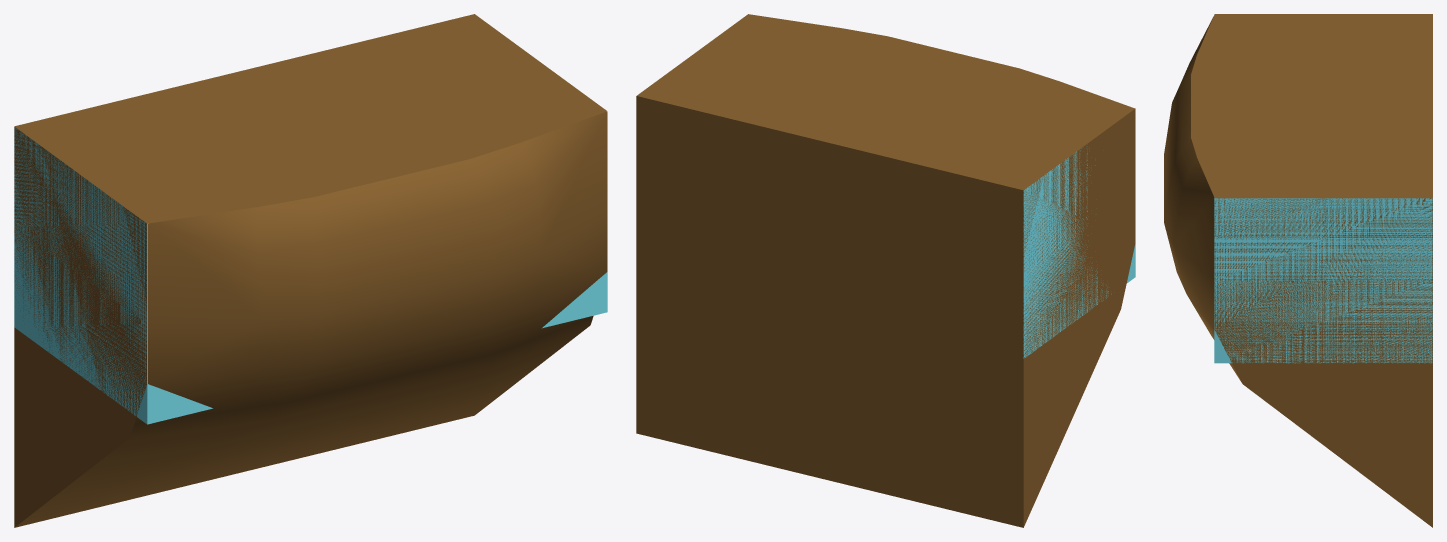
Rendered from PBOX_Mud_BOD_002.FBX.
The picture shows the model from 3 angles, left to right: view 1: azimuth 30°, elevation 25°; view 2: azimuth 150°, elevation 25°; view 3: azimuth 270°, elevation 25°; orthographic projection. The views are drawn at different scales.
Visible parts, largest first — view 1: PBOX_SUB_Mud_BOD_001, PBOX1_Mud_BOD_002; view 2: PBOX_SUB_Mud_BOD_001, PBOX1_Mud_BOD_002; view 3: PBOX_SUB_Mud_BOD_001, PBOX1_Mud_BOD_002.
Boxes of the visible parts, x1=… form: PBOX_SUB_Mud_BOD_001: x1=14, y1=14, x2=607, y2=527; PBOX1_Mud_BOD_002: x1=14, y1=111, x2=607, y2=424; PBOX_SUB_Mud_BOD_001: x1=636, y1=14, x2=1135, y2=527; PBOX1_Mud_BOD_002: x1=1023, y1=108, x2=1135, y2=358; PBOX_SUB_Mud_BOD_001: x1=1164, y1=14, x2=1432, y2=527; PBOX1_Mud_BOD_002: x1=1214, y1=14, x2=1432, y2=363.
Size of the model in its own units: 6 by 5 by 3.7.
